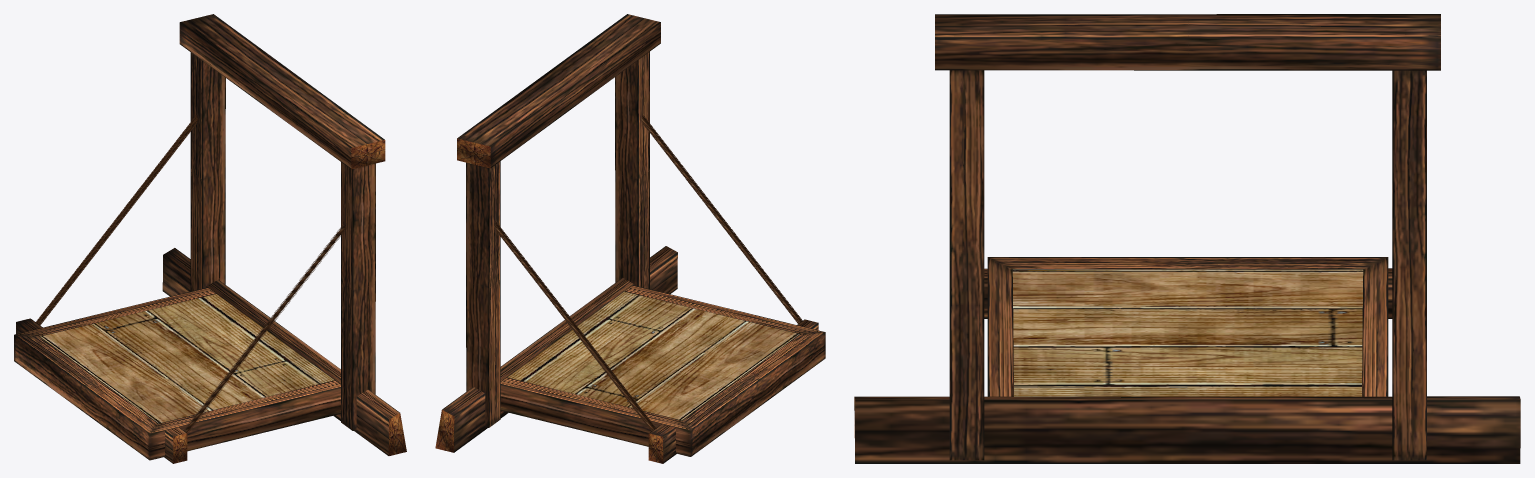
The model's file is LAKETOWN_WAREHOUSE2_PS_WH2_PLAT_74746__GX.fbx.
The picture shows the model from 3 angles, left to right: view 1: azimuth 30°, elevation 25°; view 2: azimuth 150°, elevation 25°; view 3: azimuth 270°, elevation 25°; orthographic projection. The views are drawn at different scales.
Visible parts, largest first — view 1: LAKETOWN_WAREHOUSE2_PS_WH2_PLAT_74746__GX; view 2: LAKETOWN_WAREHOUSE2_PS_WH2_PLAT_74746__GX; view 3: LAKETOWN_WAREHOUSE2_PS_WH2_PLAT_74746__GX.
Boxes of the visible parts, left/top/right/bottom form: LAKETOWN_WAREHOUSE2_PS_WH2_PLAT_74746__GX: left=14, top=14, right=406, bottom=463; LAKETOWN_WAREHOUSE2_PS_WH2_PLAT_74746__GX: left=435, top=14, right=825, bottom=463; LAKETOWN_WAREHOUSE2_PS_WH2_PLAT_74746__GX: left=854, top=14, right=1520, bottom=463.
Size of the model in its own units: 18506 by 23668 by 33287.
5 materials, 5 textured.
